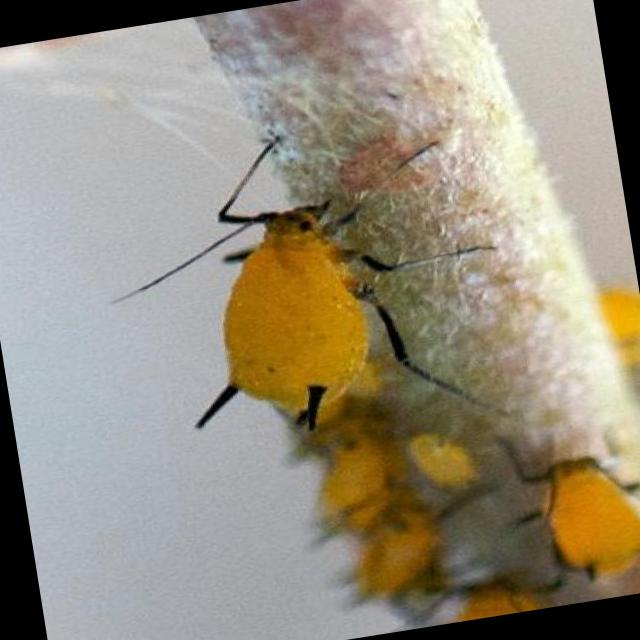aphid: (113, 126, 455, 462)
